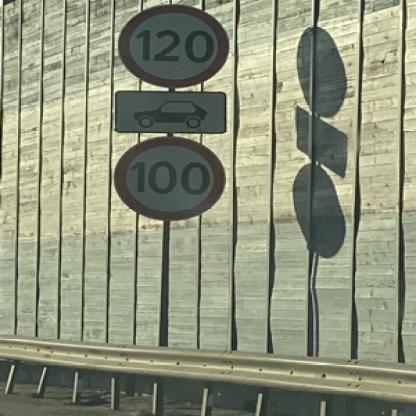speedlimit: (111, 134, 225, 221), (116, 3, 229, 87)
